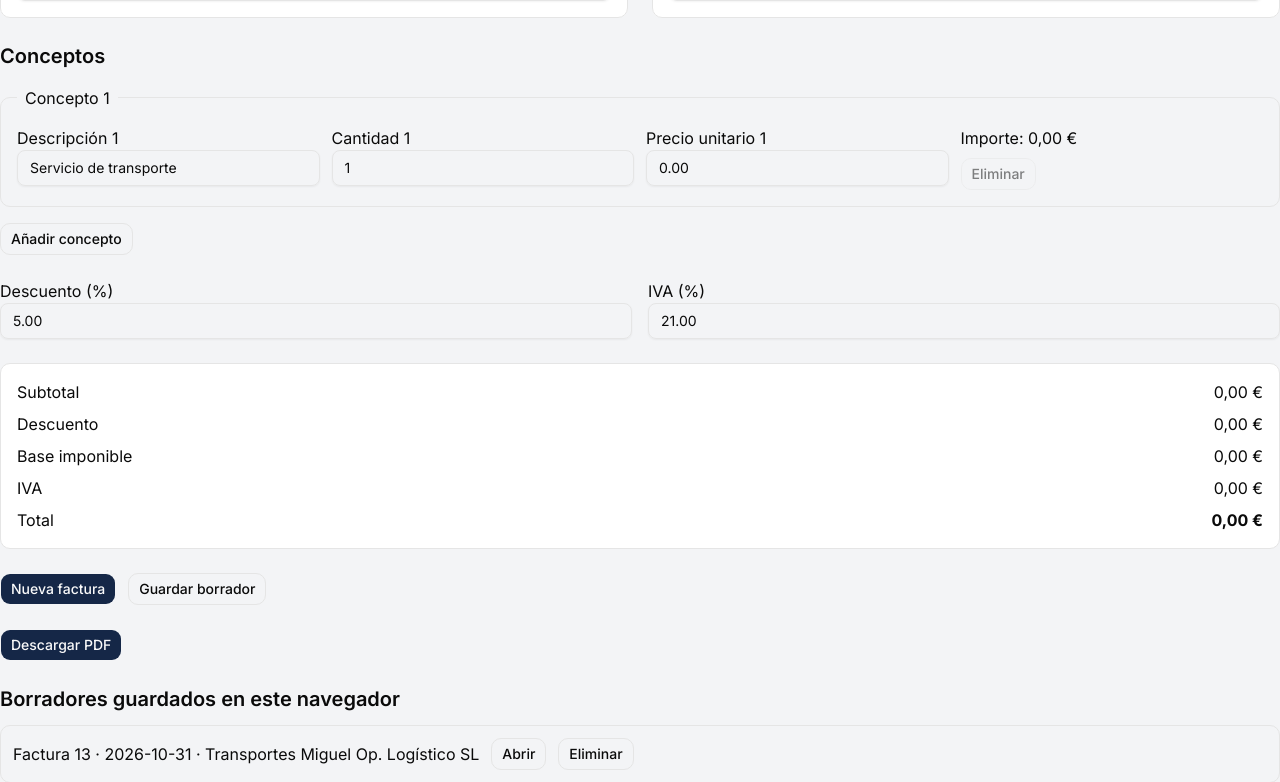
it: Editor de facturas › muestra cantidades enteras sin cambiar los datos de los borradores
(page scrolled)
Click the button with aria-label "Abrir factura 13" at (519, 754), box [491,738,546,770]
(page scrolled)
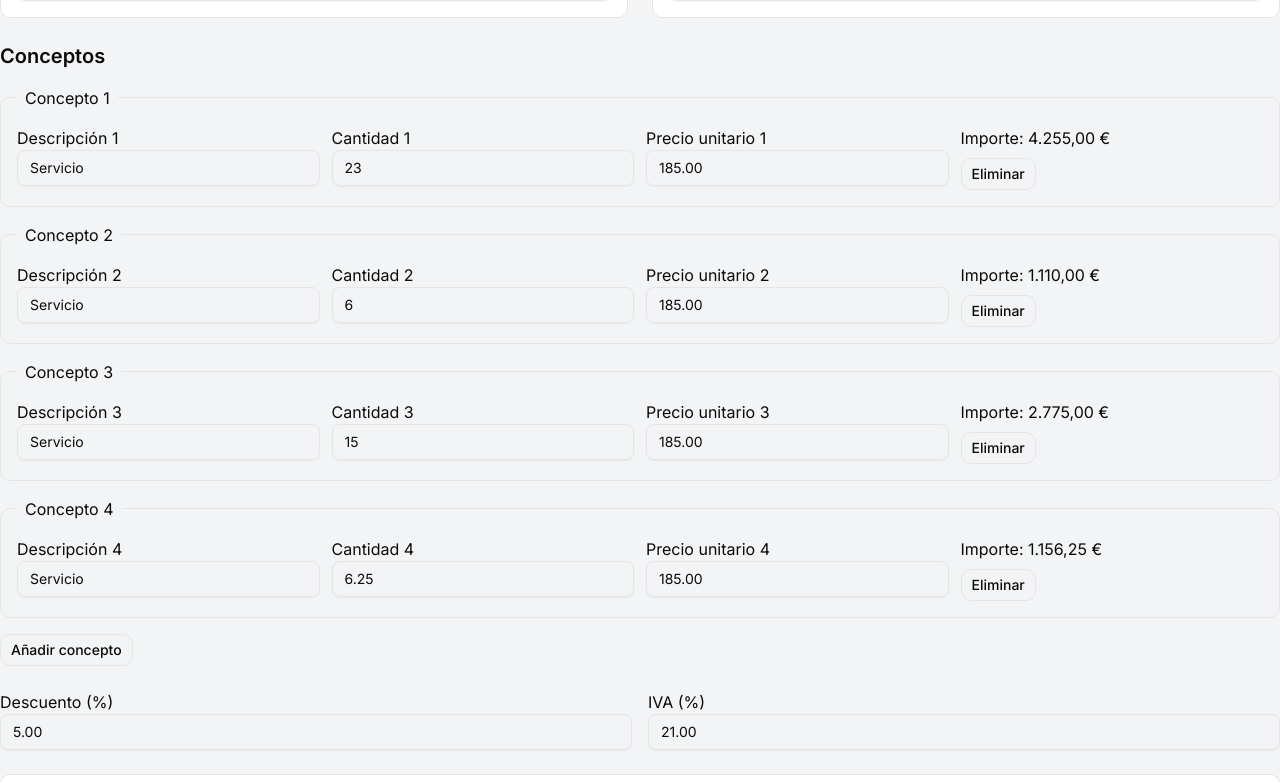
Check: the field labelled "Cantidad 1" holds "23", box [332,150,634,186]
Check: the field labelled "Precio unitario 1" holds "185.00", box [646,150,948,186]
